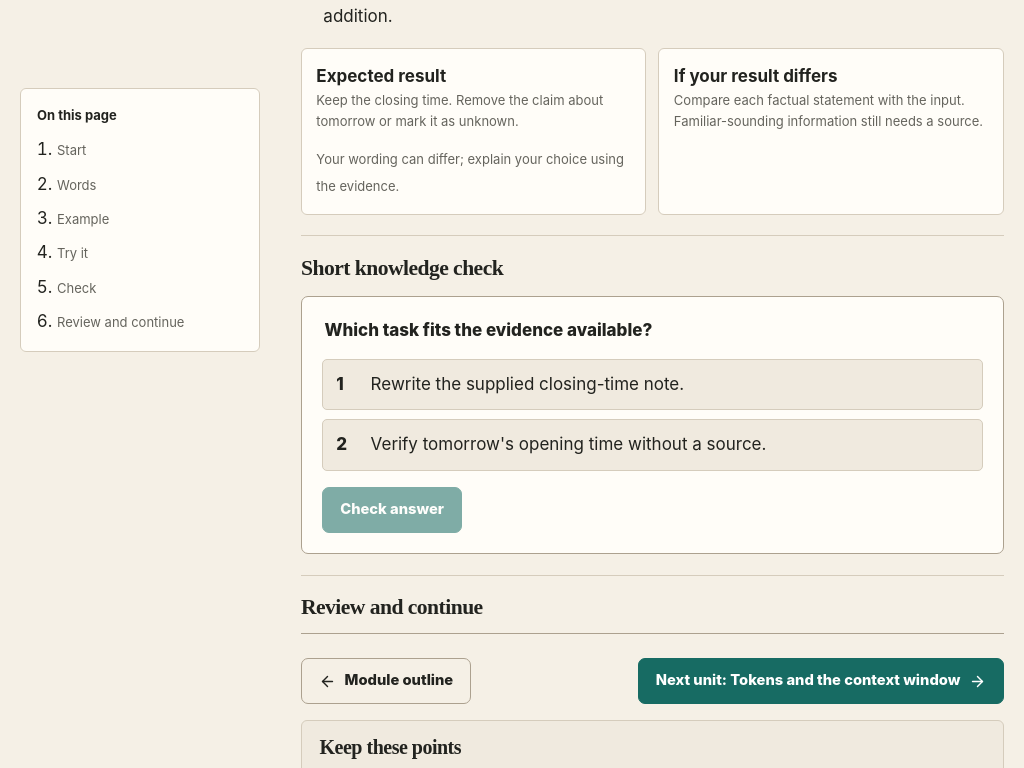
Test: open academy route › records a correct unit without completing an unfinished module
This screenshot has width=1024, height=768.
(page scrolled)
Click the radio button labelled "1 Rewrite the supplied closing-time note.": (652, 385) [322,359,982,410]
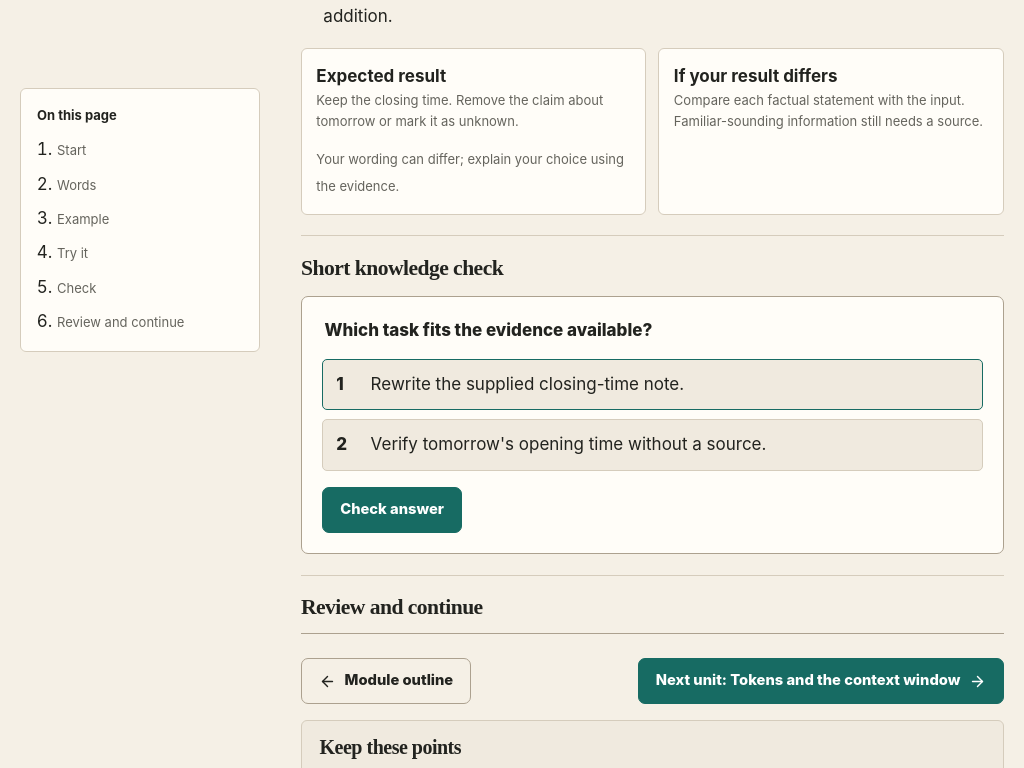
Click the button "Check answer": (392, 510) [322,487,462,533]
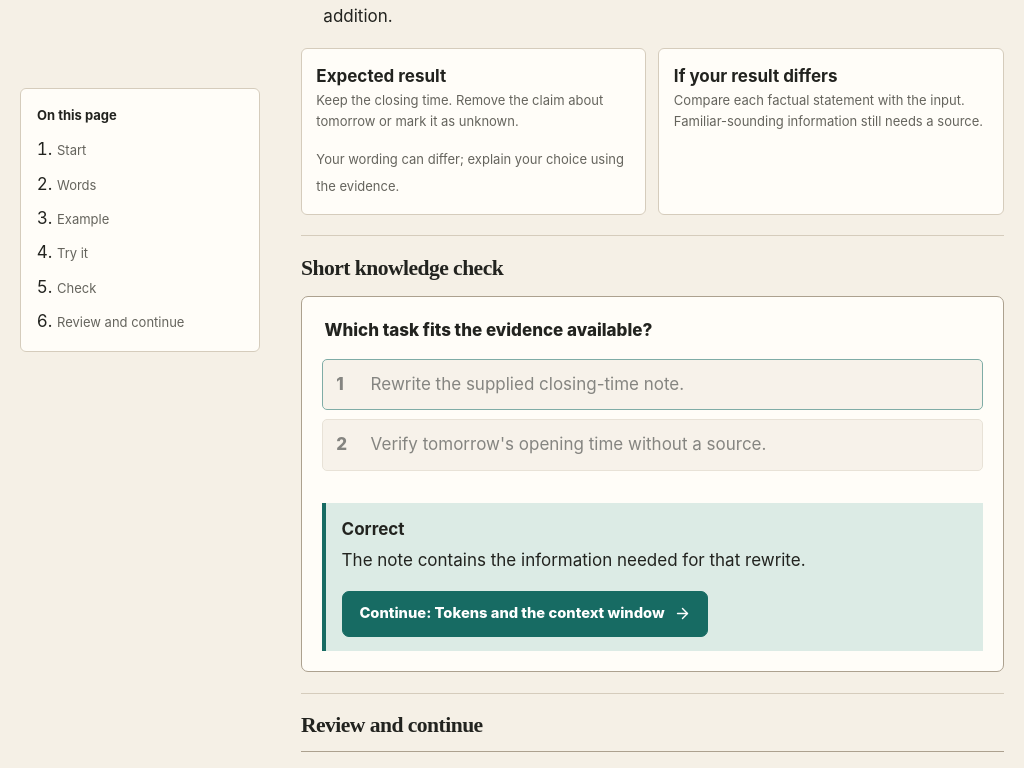
expect the message shows "Correct": met, box [342,519,404,539]
